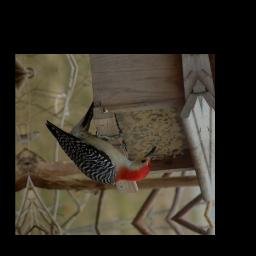Woodpecker: (47, 100, 161, 195)
